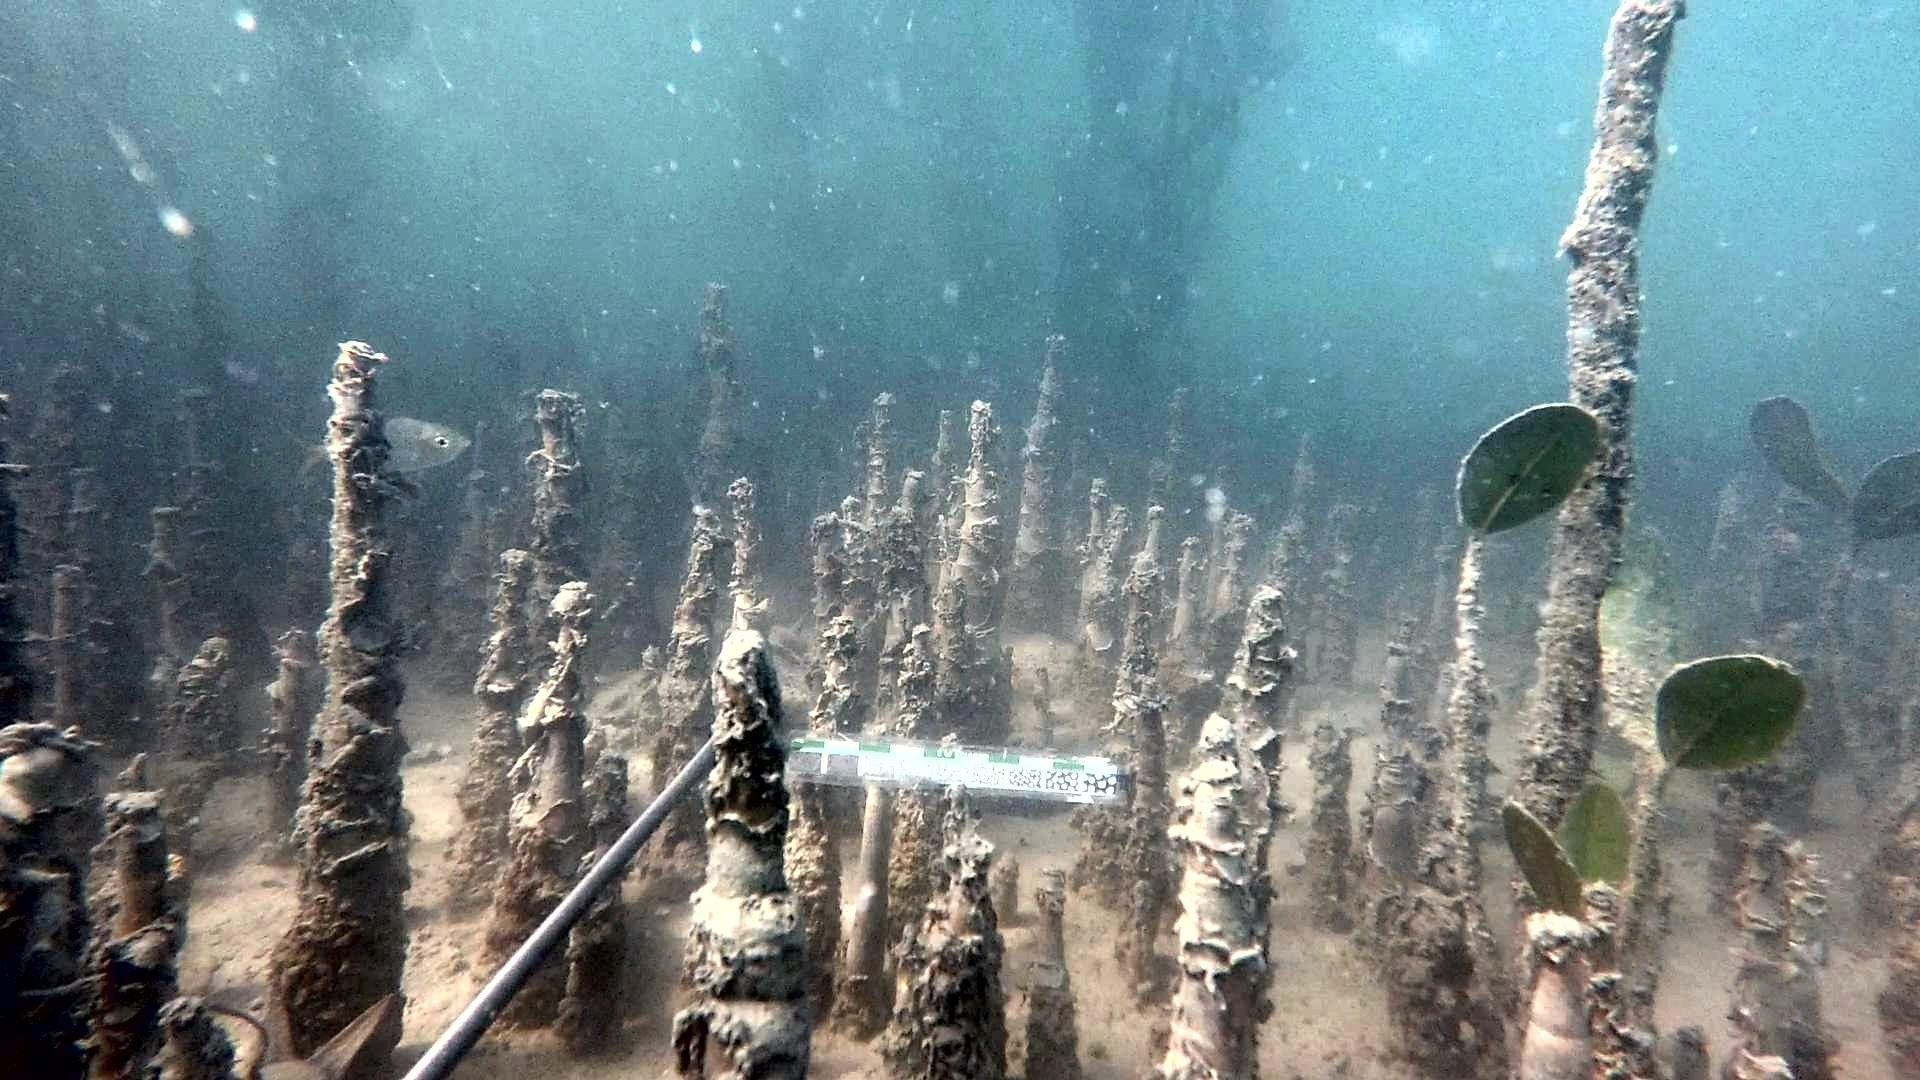gerres: (388, 411, 475, 476)
